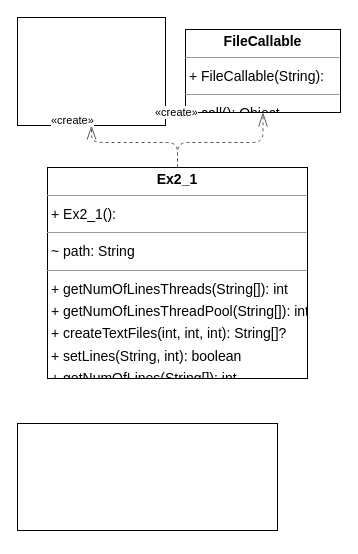
Image size: 358x554. Some labels were removed from this diagram. The shapes that lost their labels are listed below. From the top down, each one's box as (x1, y1, x2, y2) in pixels, then its label:
(16, 16, 166, 126): FileThread + FileThread(String): + run(): void lines: int
(16, 422, 278, 530): Main + Main(): + main(String[]): void + CalculateAndDisplayTime(double): void
